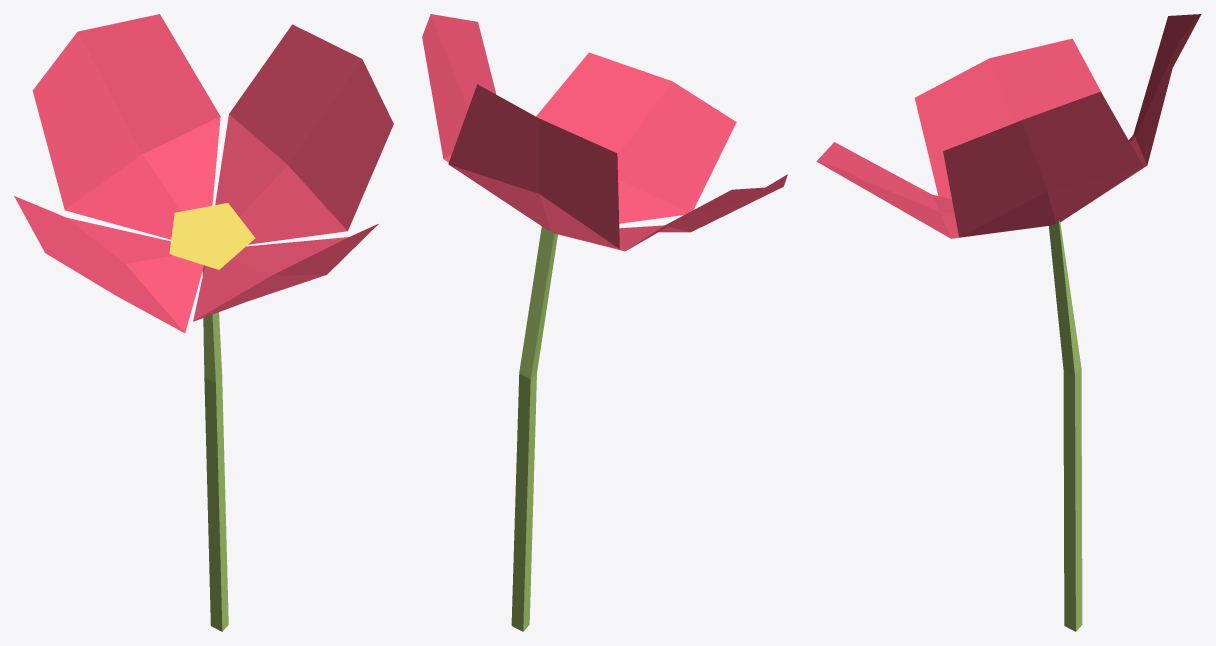
Rendered from Flower_c_TwoS_05.fbx.
The picture shows the model from 3 angles, left to right: view 1: azimuth 30°, elevation 25°; view 2: azimuth 150°, elevation 25°; view 3: azimuth 270°, elevation 25°; orthographic projection.
Parts seen in each view (by area): view 1: Flower_c_TwoS_05; view 2: Flower_c_TwoS_05; view 3: Flower_c_TwoS_05.
Boxes of the visible parts, bbox=[...] form: Flower_c_TwoS_05: bbox=[14, 14, 393, 631]; Flower_c_TwoS_05: bbox=[422, 14, 787, 631]; Flower_c_TwoS_05: bbox=[816, 14, 1201, 631].
Size of the model in its own units: 0.2571 by 0.4258 by 0.2552.
